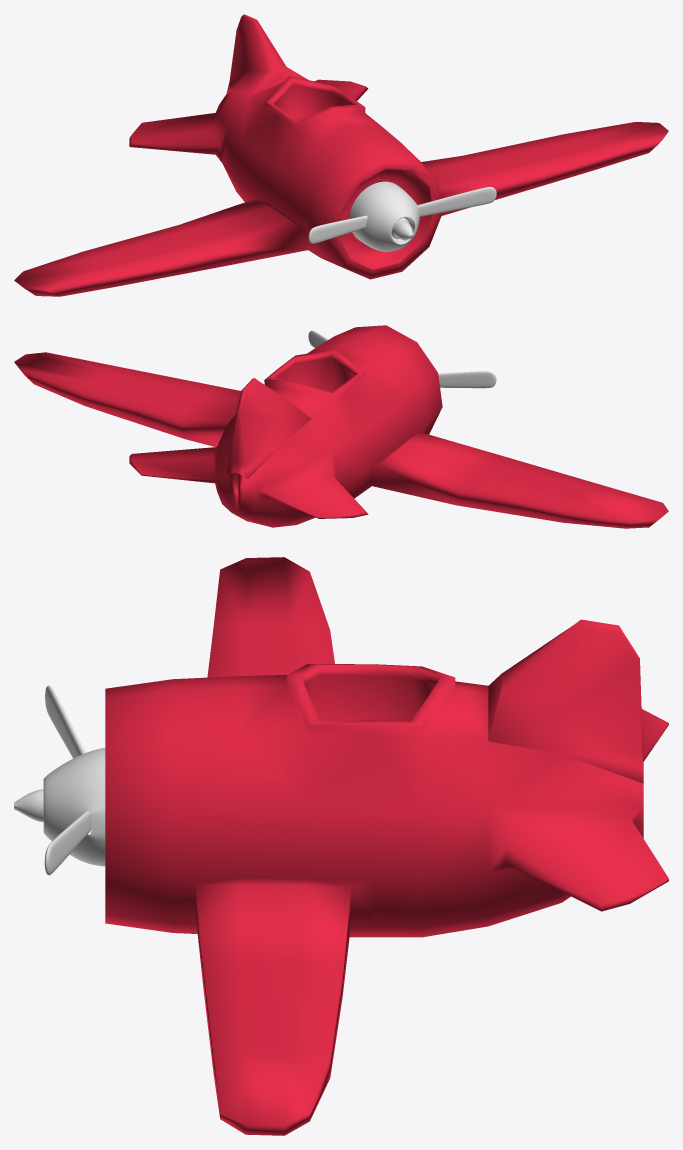
Rendered from toy_plane.gltf.
The picture shows the model from 3 angles, top to bottom: view 1: azimuth 30°, elevation 25°; view 2: azimuth 150°, elevation 25°; view 3: azimuth 270°, elevation 25°; orthographic projection. The views are drawn at different scales.
Visible parts, largest first — view 1: base, rotator; view 2: base, rotator; view 3: base, rotator.
Boxes of the visible parts, box(x1,y1,x2,y2) form: base: box(14, 14, 668, 296); rotator: box(308, 181, 496, 251); base: box(14, 325, 668, 528); rotator: box(308, 330, 496, 388); base: box(105, 557, 668, 1135); rotator: box(14, 685, 105, 875).
Bounding box in the file's own units: 10 × 2.48 × 4.87.
